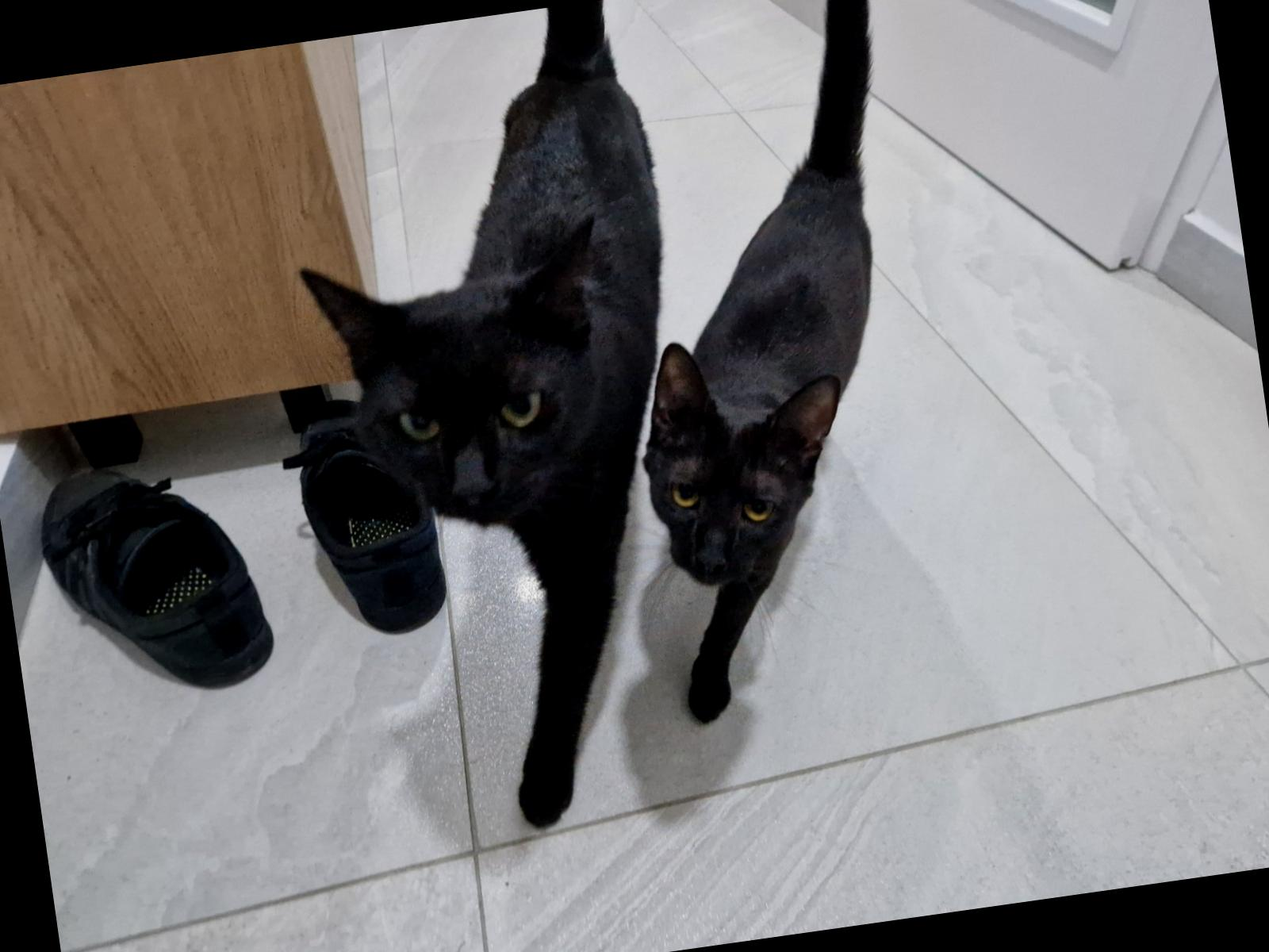macka: (266, 0, 742, 851), (577, 0, 979, 729)
